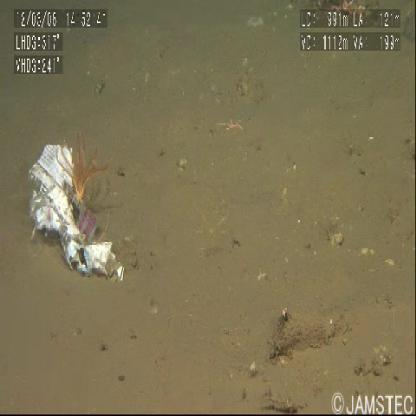Rác: (26, 131, 128, 299)
